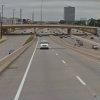Bridge: (4, 15, 94, 35)
